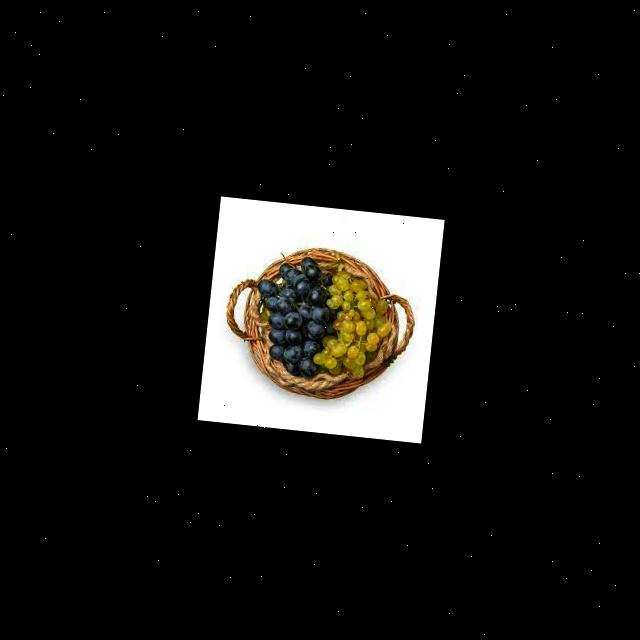grape: (249, 251, 343, 380)
